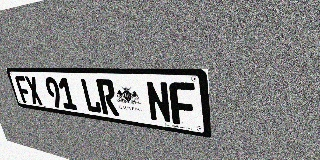1: (56, 77, 77, 110)
9: (44, 77, 64, 108)
F: (169, 82, 197, 127), (14, 76, 33, 104)
L: (80, 78, 102, 114)
N: (145, 81, 172, 124)
R: (96, 79, 119, 116)
X: (24, 76, 43, 105)
